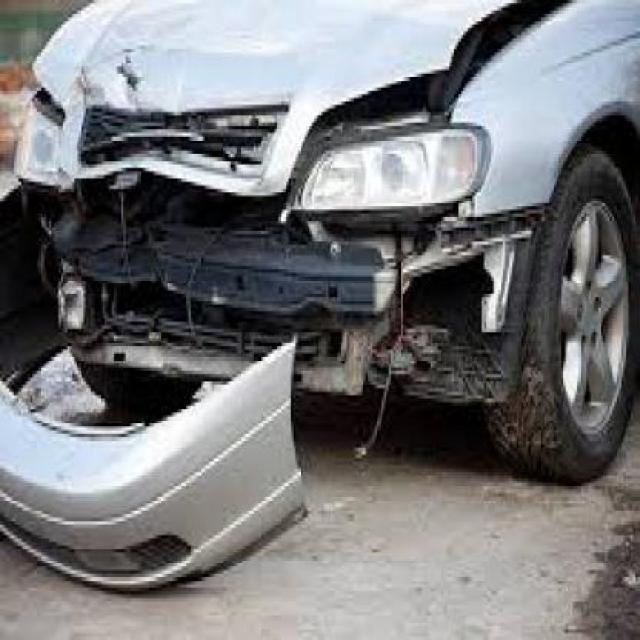damaged-front-bumper: (58, 219, 534, 367)
